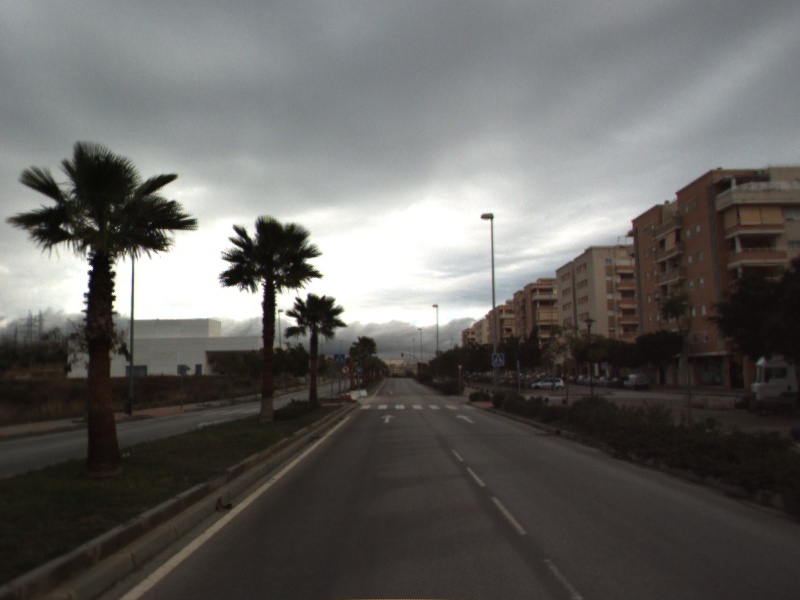STRAIGHT: (454, 412, 477, 425), (378, 412, 397, 425)
